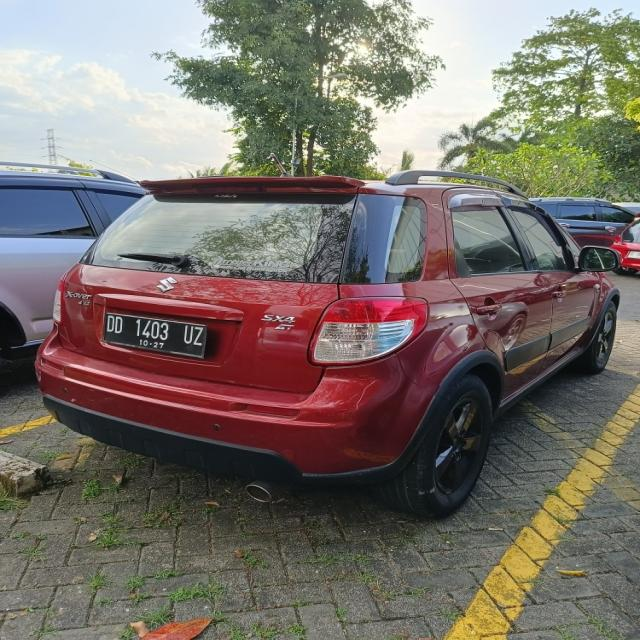plates: (102, 311, 222, 354)
